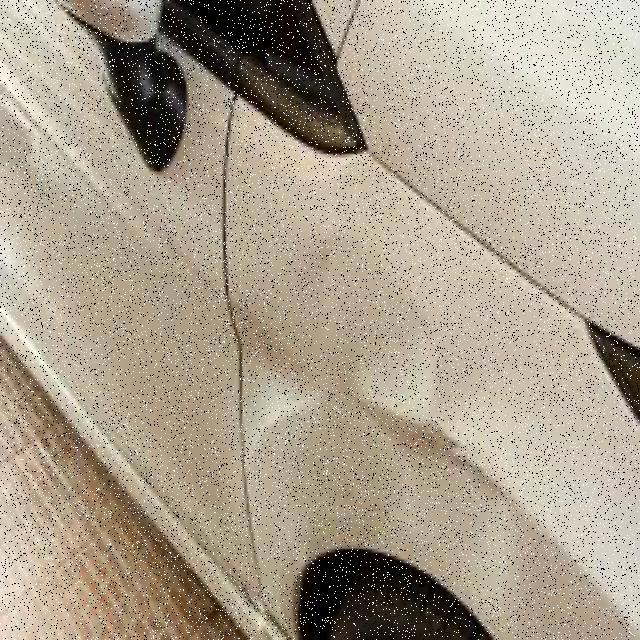fender-dent: (221, 245, 594, 636)
